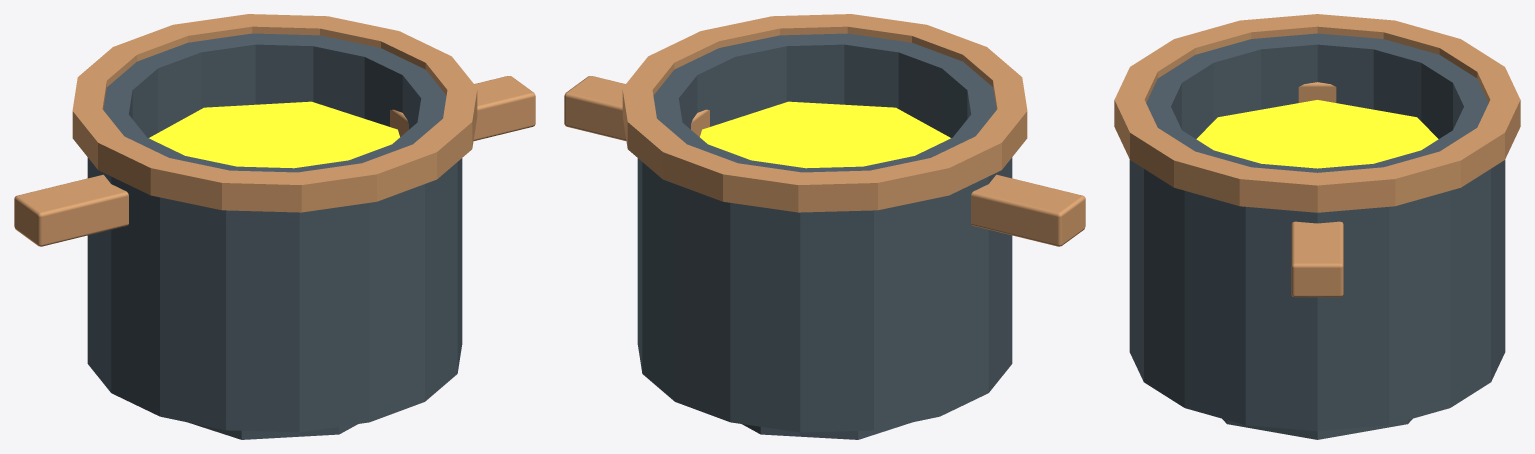
Rendered from dwarven-runeforge-dungeon-dwarven-runeforge-dungeon-po-7482f109__28599.glb.
3 renders of one model, left to right at view 1: azimuth 30°, elevation 25°; view 2: azimuth 150°, elevation 25°; view 3: azimuth 270°, elevation 25°, orthographic.
Parts seen in each view (by area): view 1: dwarven-runeforge-dungeon-pouring-crucible; view 2: dwarven-runeforge-dungeon-pouring-crucible; view 3: dwarven-runeforge-dungeon-pouring-crucible.
Part boxes in pixels (x1,y1,x2,y2): dwarven-runeforge-dungeon-pouring-crucible: (14,14,535,439); dwarven-runeforge-dungeon-pouring-crucible: (564,14,1085,439); dwarven-runeforge-dungeon-pouring-crucible: (1114,14,1520,439).
Size of the model in its own units: 1.52 by 0.84 by 1.08.
